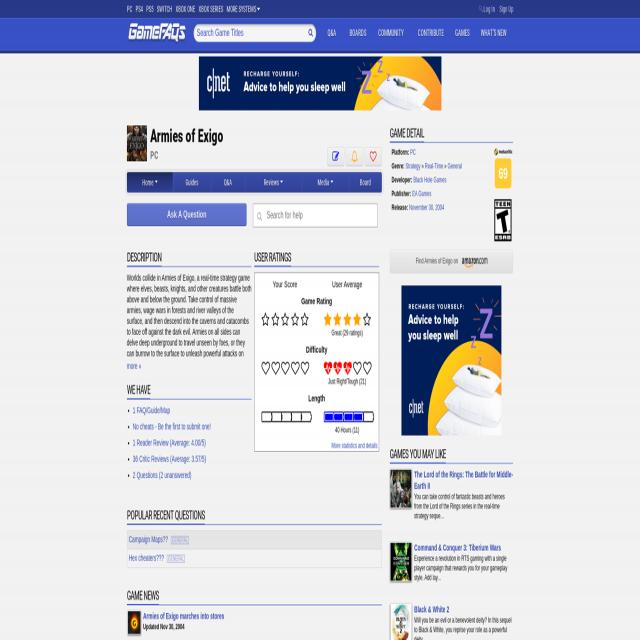button: (401, 286, 502, 436), (199, 56, 441, 111), (127, 203, 247, 226), (127, 18, 187, 48), (244, 172, 302, 193), (371, 18, 411, 48), (411, 18, 451, 48), (474, 18, 513, 48), (127, 172, 173, 193), (302, 172, 348, 193), (390, 469, 412, 508), (390, 542, 412, 581), (173, 172, 211, 193), (345, 18, 371, 48), (494, 199, 512, 242), (390, 605, 412, 640), (127, 126, 147, 162), (211, 172, 245, 193), (348, 172, 382, 193), (451, 18, 473, 48), (324, 18, 344, 48), (494, 158, 512, 189), (327, 147, 345, 166), (345, 147, 363, 166), (364, 147, 382, 166), (459, 257, 487, 269), (128, 611, 141, 633), (256, 210, 264, 222), (307, 27, 315, 38)
field: (253, 203, 378, 227), (194, 24, 316, 42)
